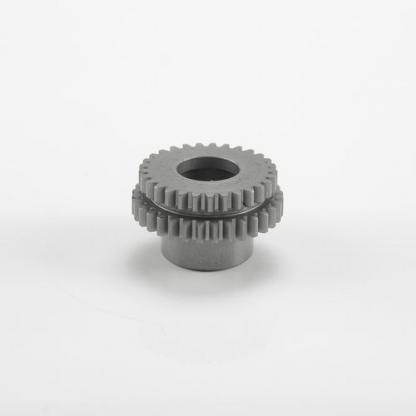FOD: (126, 141, 288, 277)
